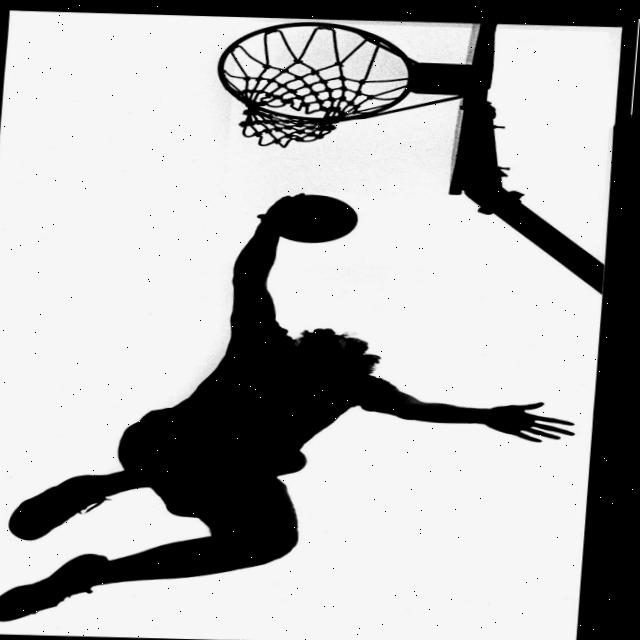basketball: (273, 194, 360, 244)
hoop: (213, 19, 420, 152)
